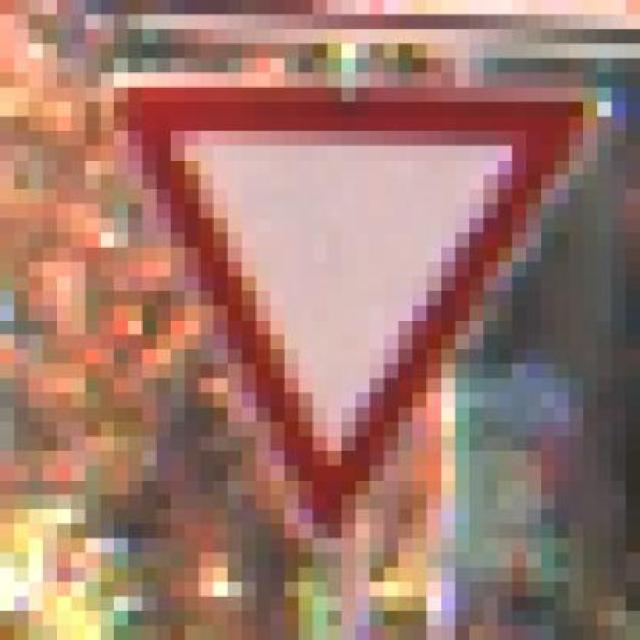Give Way: (52, 61, 620, 570)
